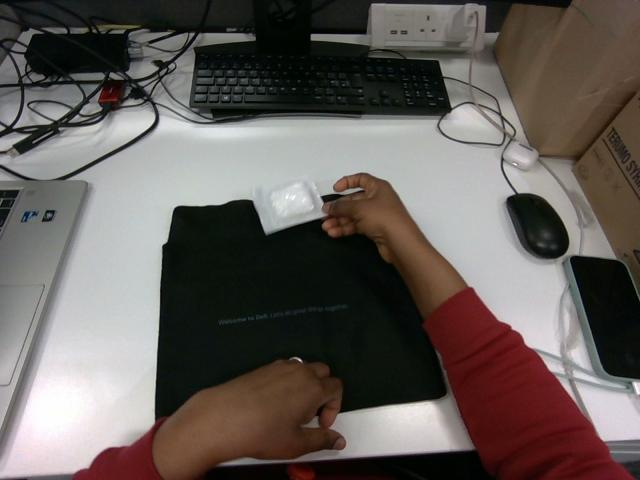gauze: (253, 179, 324, 234)
